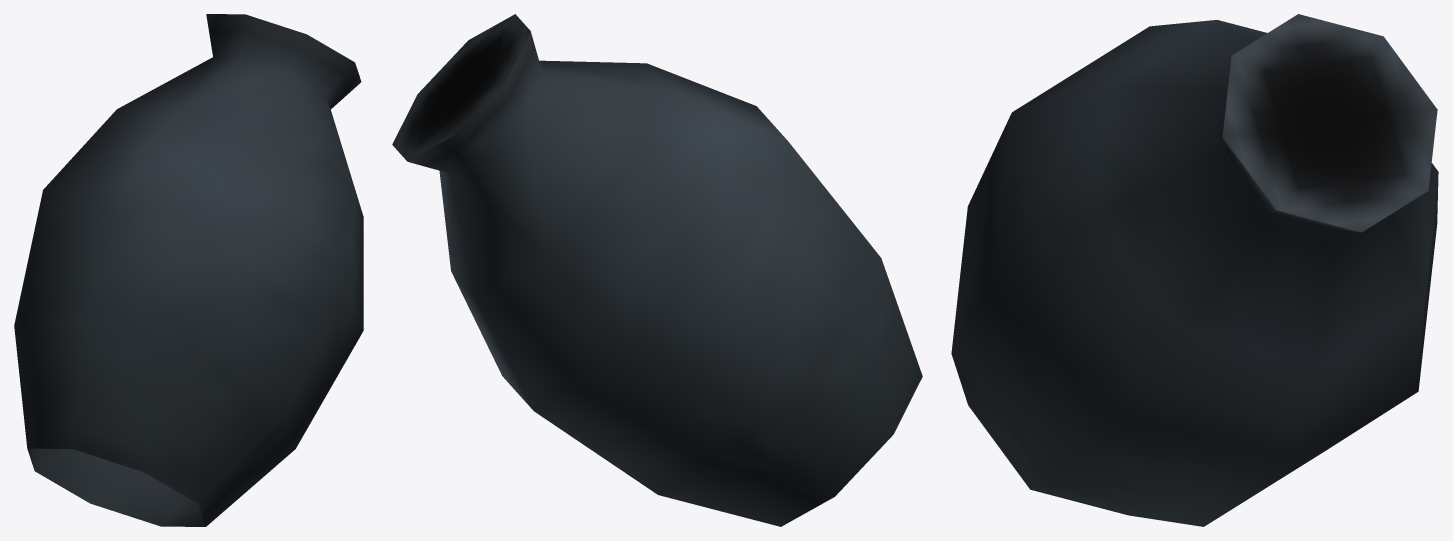
Rendered from Area06_1.fbx.
The picture shows the model from 3 angles, left to right: view 1: azimuth 30°, elevation 25°; view 2: azimuth 150°, elevation 25°; view 3: azimuth 270°, elevation 25°; orthographic projection. The views are drawn at different scales.
Parts seen in each view (by area): view 1: Area06_1; view 2: Area06_1; view 3: Area06_1.
Part boxes in pixels (bbox=[...]): Area06_1: bbox=[14, 14, 363, 526]; Area06_1: bbox=[392, 14, 922, 526]; Area06_1: bbox=[951, 14, 1438, 526].
Bounding box in the file's own units: 99.39 × 108 × 79.79.
